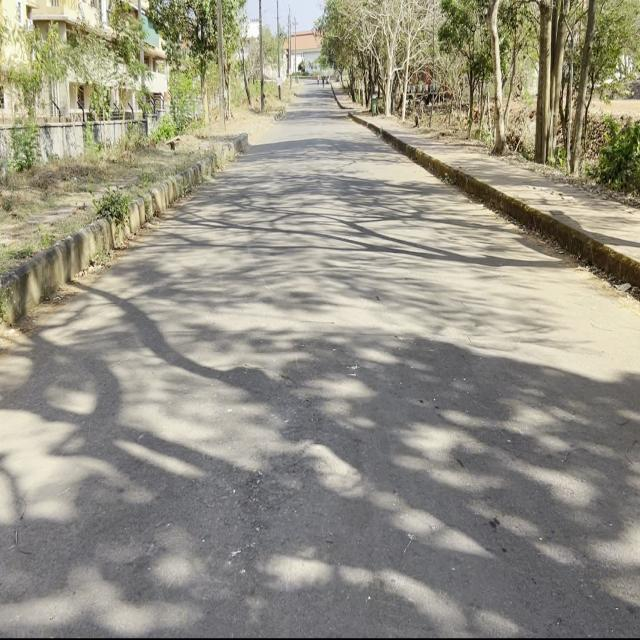Road: (4, 76, 635, 629)
